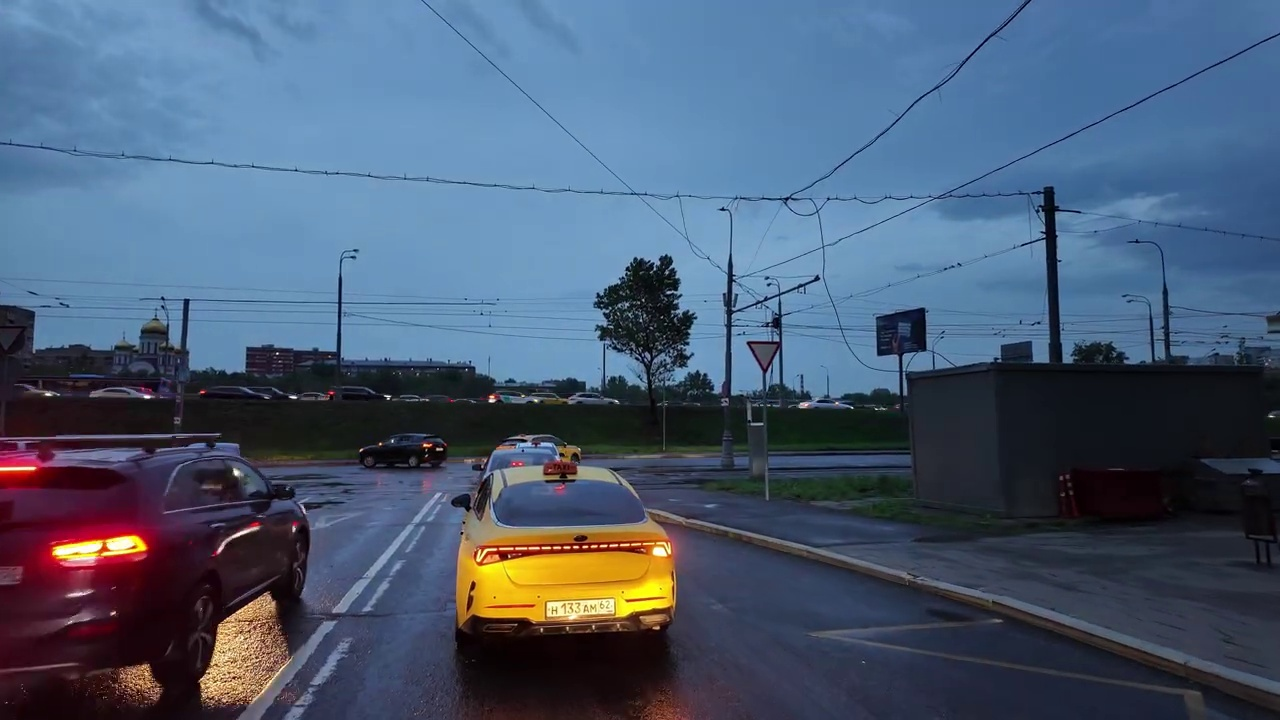apagada: (342, 248, 363, 267)
